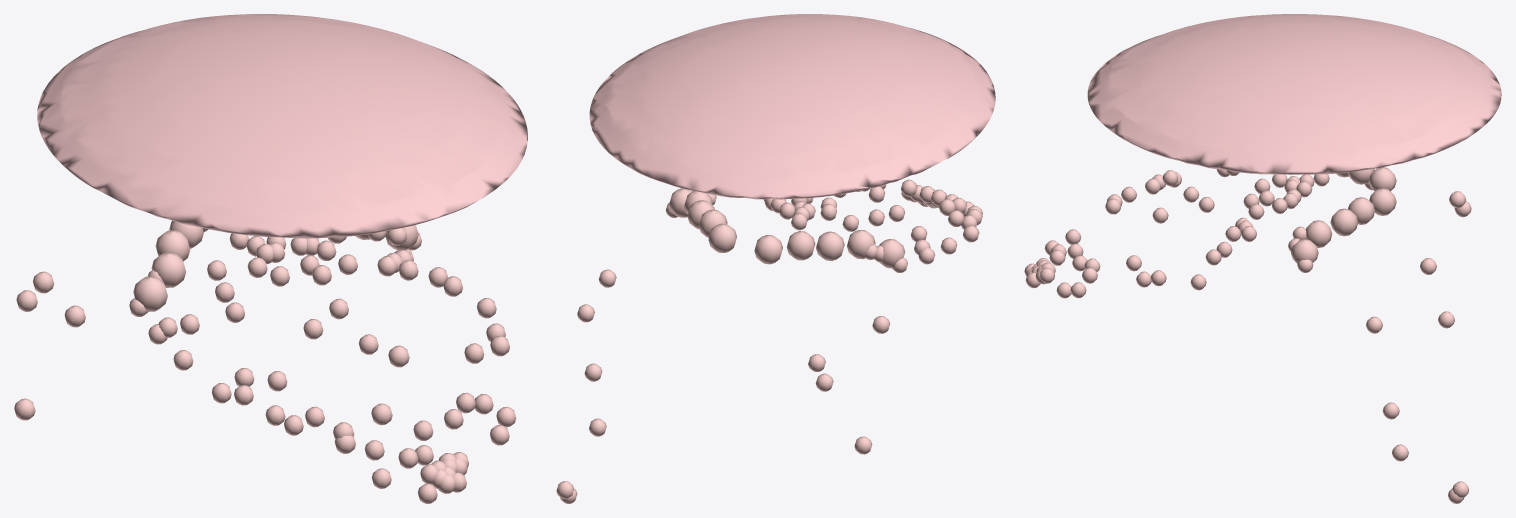
File: anatomyverse-oral2.glb
3 views of the same model, side by side, from view 1: azimuth 30°, elevation 25°; view 2: azimuth 150°, elevation 25°; view 3: azimuth 270°, elevation 25° (orthographic). The views are drawn at different scales.
Visible parts, largest first — view 1: zo_oral_cavity, zo_taste; view 2: zo_oral_cavity, zo_taste; view 3: zo_oral_cavity, zo_taste.
Boxes of the visible parts, bbox=[...] form: zo_oral_cavity: bbox=[37, 14, 527, 238]; zo_taste: bbox=[14, 220, 516, 503]; zo_oral_cavity: bbox=[589, 14, 995, 199]; zo_taste: bbox=[556, 179, 982, 503]; zo_oral_cavity: bbox=[1087, 14, 1501, 174]; zo_taste: bbox=[1024, 167, 1471, 503].
Bounding box in the file's own units: 0.0344 × 0.0394 × 0.0444.
